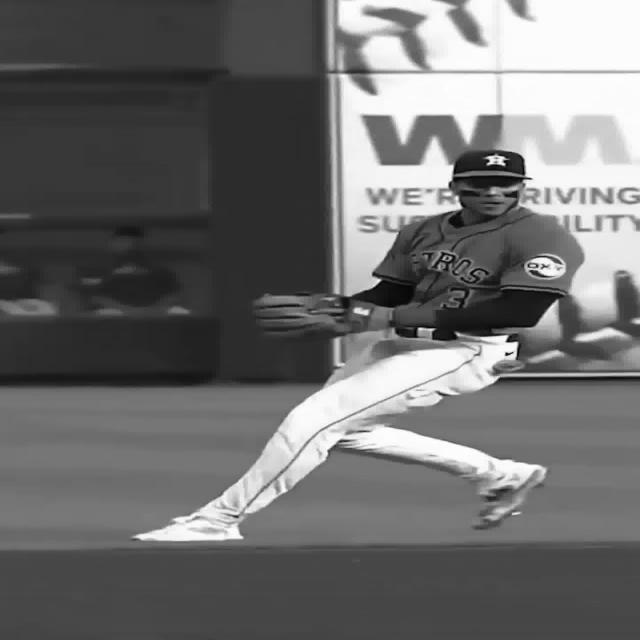baseball_glove: (253, 292, 391, 340)
shoe: (473, 460, 547, 529), (131, 518, 242, 542)
